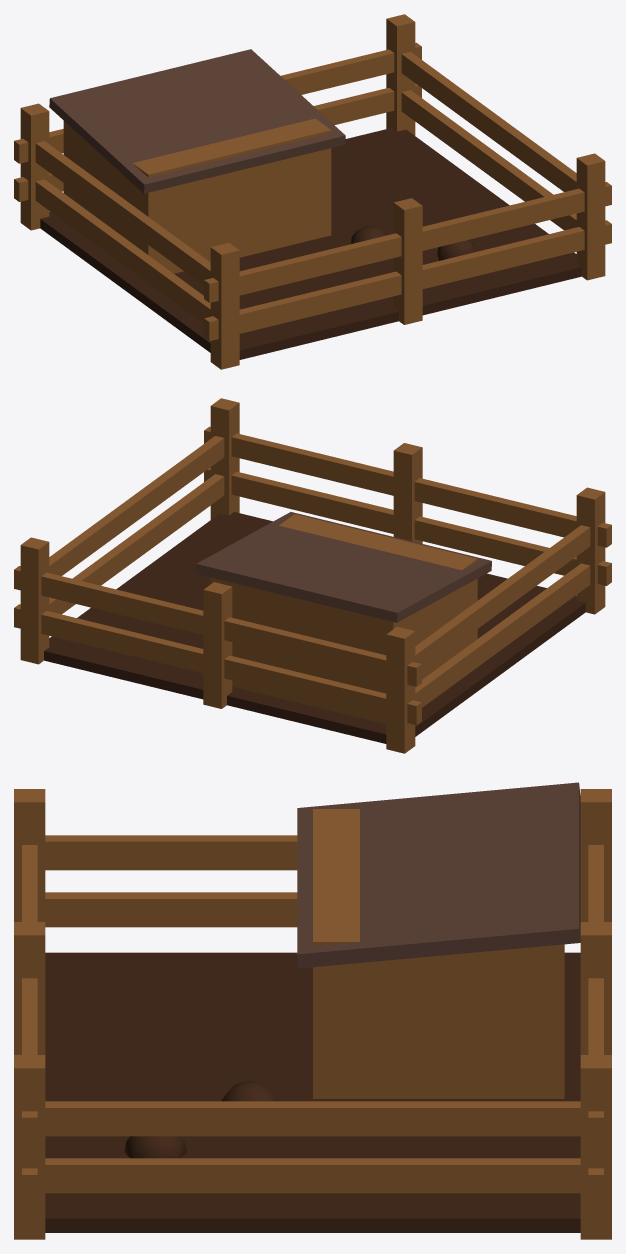
The model's file is pigpen.glb.
3 views of the same model, one above another, from view 1: azimuth 30°, elevation 25°; view 2: azimuth 150°, elevation 25°; view 3: azimuth 270°, elevation 25° (orthographic). The views are drawn at different scales.
Visible parts, largest first — view 1: pigpen, bubble1; view 2: pigpen; view 3: pigpen, bubble1, bubble2.
Part boxes in pixels (x1=…): pigpen: x1=14, y1=14, x2=611, y2=369; bubble1: x1=437, y1=239, x2=476, y2=260; pigpen: x1=14, y1=398, x2=611, y2=753; pigpen: x1=14, y1=782, x2=611, y2=1239; bubble1: x1=124, y1=1136, x2=186, y2=1158; bubble2: x1=221, y1=1081, x2=278, y2=1101.
Size of the model in its own units: 2.2 by 0.7198 by 1.9.
